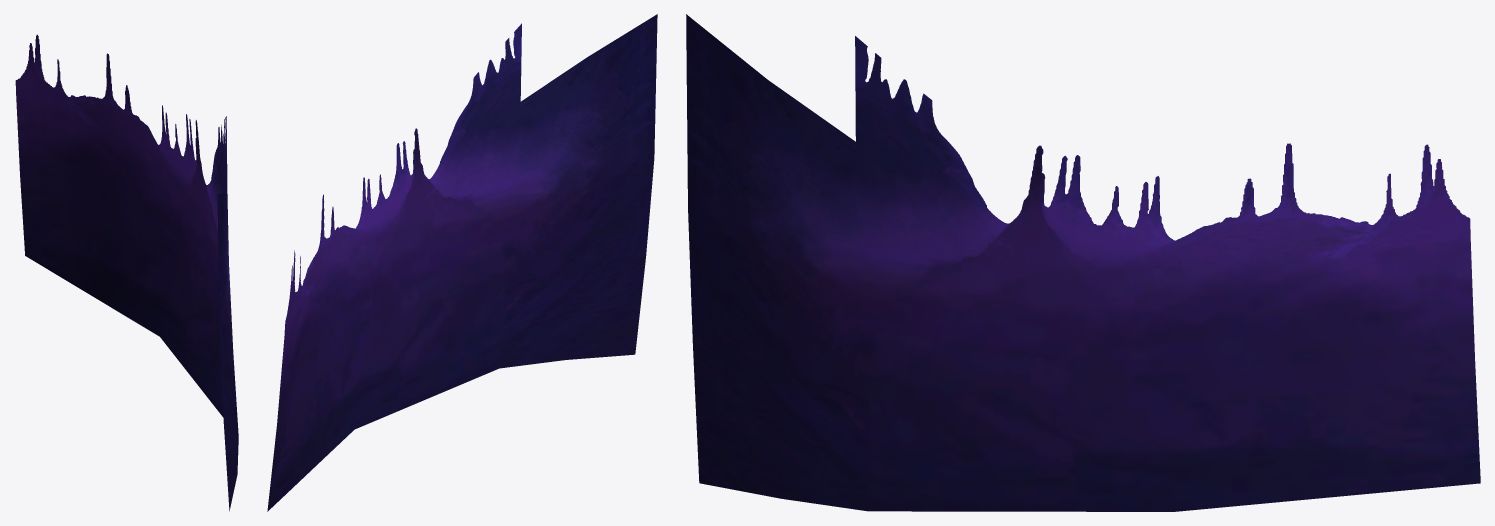
The model's file is SWORDLIGHT20_PS-AREA05-RANGE02_00.fbx.
3 views of the same model, side by side, from view 1: azimuth 30°, elevation 25°; view 2: azimuth 150°, elevation 25°; view 3: azimuth 270°, elevation 25° (orthographic). The views are drawn at different scales.
Visible parts, largest first — view 1: SWORDLIGHT20_PS-AREA05-RANGE02_00; view 2: SWORDLIGHT20_PS-AREA05-RANGE02_00; view 3: SWORDLIGHT20_PS-AREA05-RANGE02_00.
Boxes of the visible parts, bbox=[...] form: SWORDLIGHT20_PS-AREA05-RANGE02_00: bbox=[15, 34, 238, 511]; SWORDLIGHT20_PS-AREA05-RANGE02_00: bbox=[267, 14, 657, 511]; SWORDLIGHT20_PS-AREA05-RANGE02_00: bbox=[686, 14, 1480, 511].
Bounding box in the file's own units: 101359 × 286389 × 426344.
6 materials, 6 textured.
